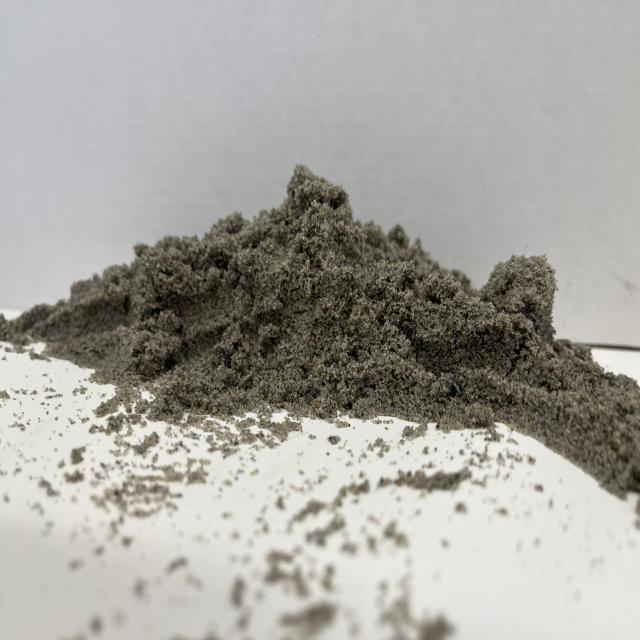sand: (14, 150, 599, 478)
